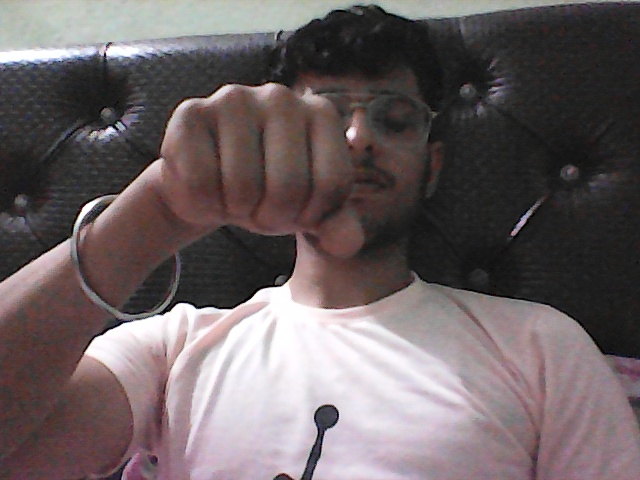yes: (116, 72, 377, 257)
